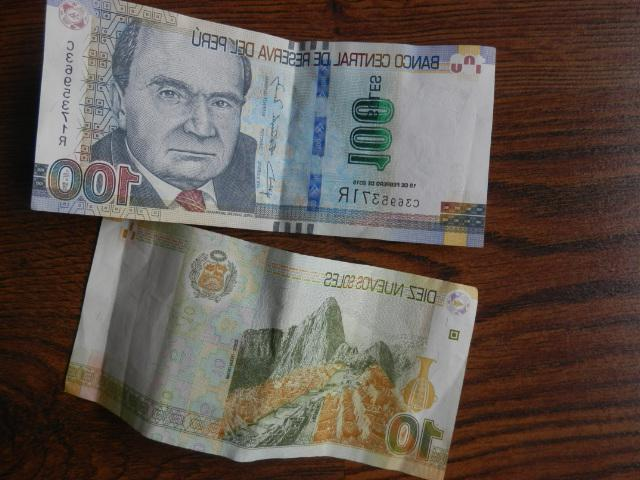B10: (61, 218, 478, 480)
B100: (32, 2, 496, 246)
